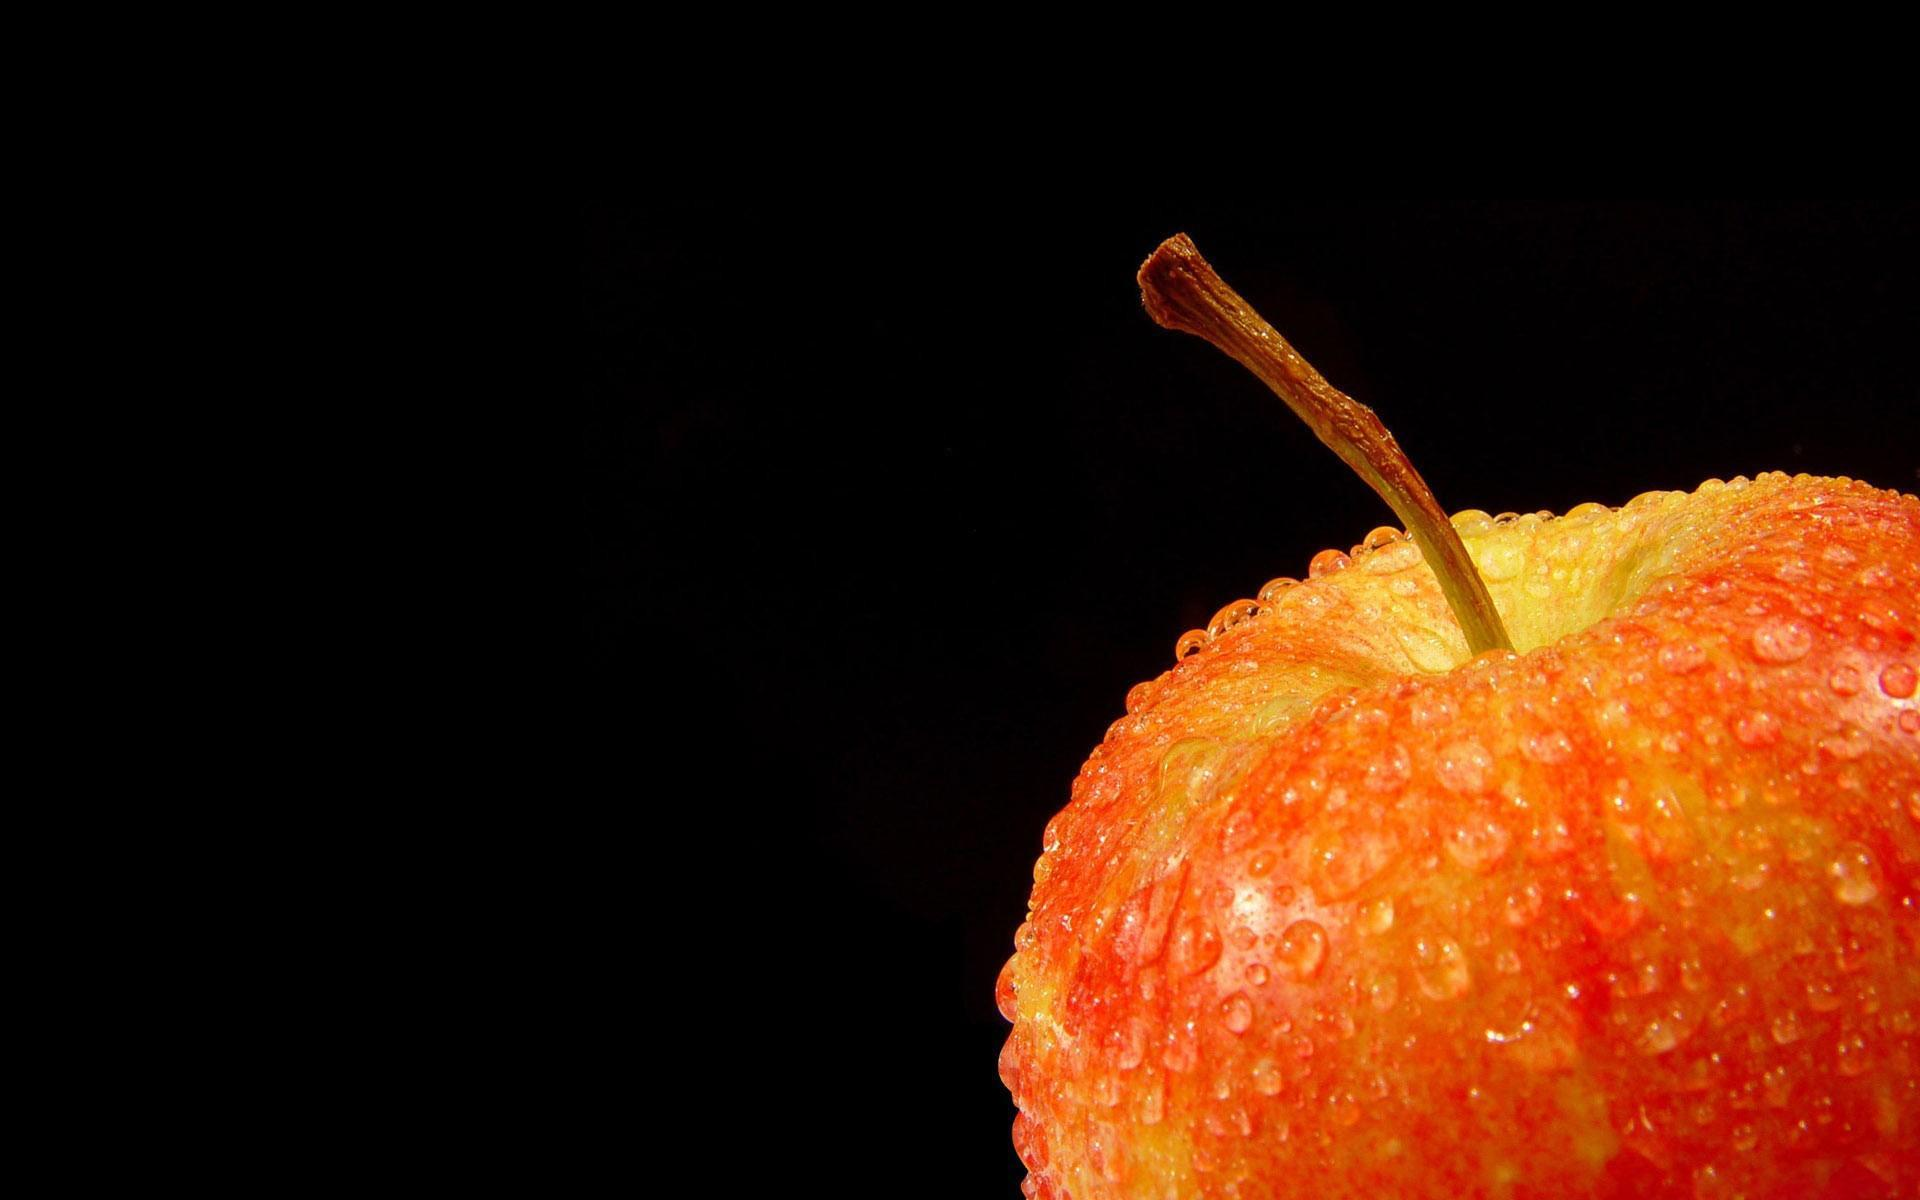apple: (1015, 473, 1916, 1194)
